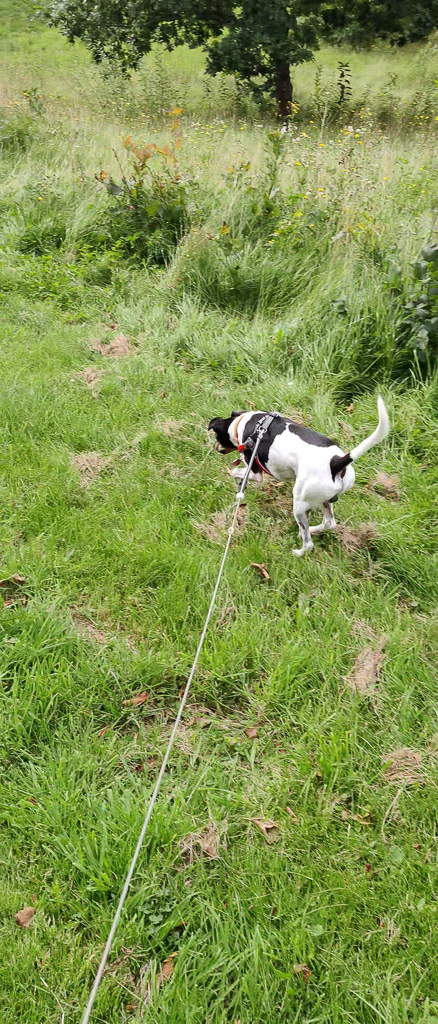Dog: (195, 385, 400, 568)
